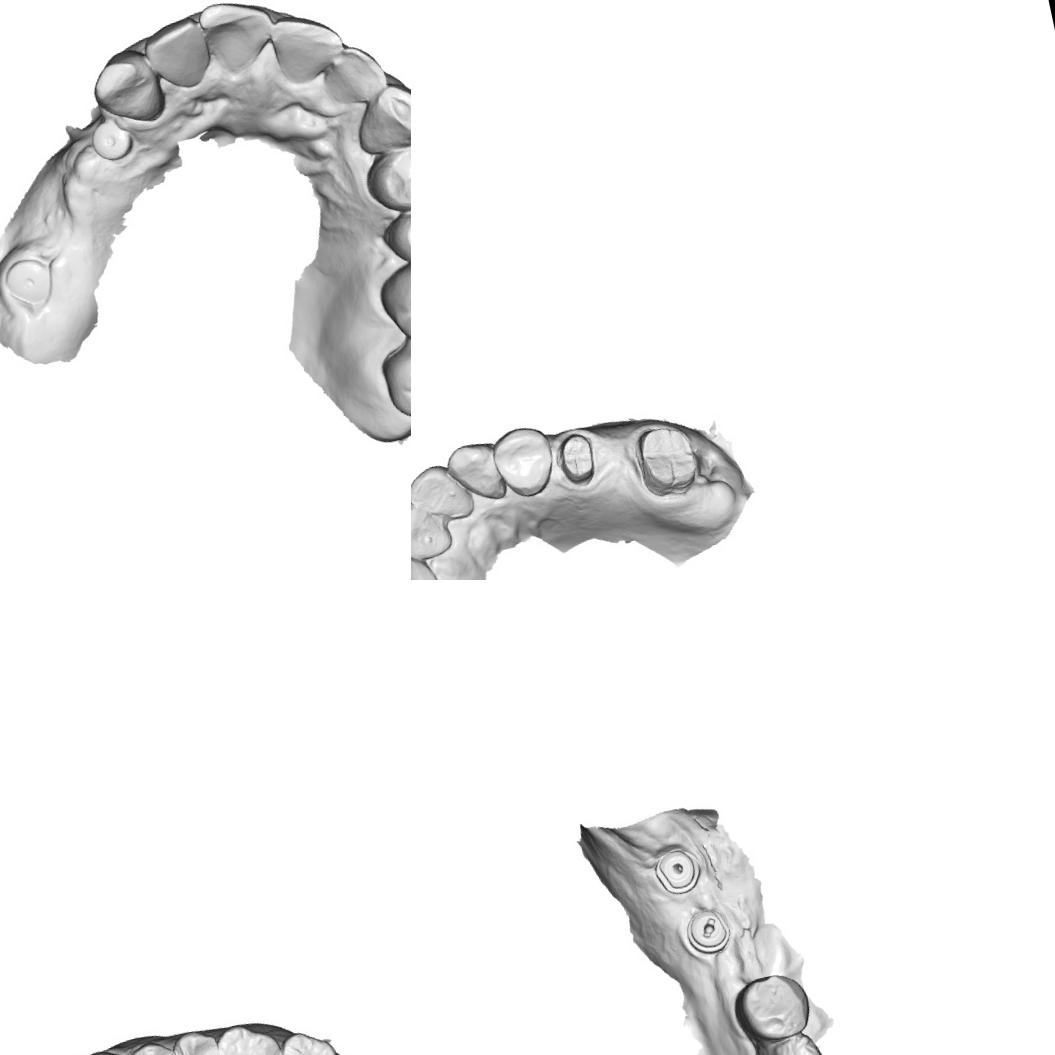canine: (88, 43, 172, 132), (343, 75, 411, 161), (440, 438, 507, 509), (758, 1030, 834, 1055)
crown: (633, 420, 703, 501), (554, 428, 603, 487)
implant: (0, 251, 57, 310), (650, 843, 707, 898), (86, 114, 137, 166)
implant_minus: (682, 907, 736, 957)
incisor: (189, 0, 281, 85), (139, 12, 222, 100), (267, 3, 351, 84), (319, 38, 394, 108), (411, 457, 477, 530), (411, 496, 456, 570), (411, 544, 444, 580)
molar: (371, 248, 411, 353), (207, 1013, 292, 1055), (377, 328, 411, 424), (273, 1022, 352, 1055)
premolar: (727, 965, 819, 1051), (487, 421, 561, 503), (359, 137, 411, 221), (378, 196, 411, 275), (166, 1025, 227, 1055), (119, 1034, 185, 1055)
